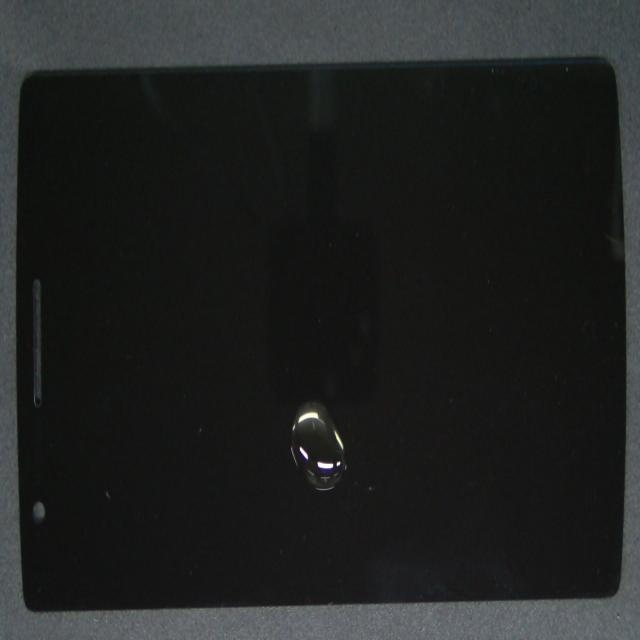oil: (183, 247, 526, 640)
